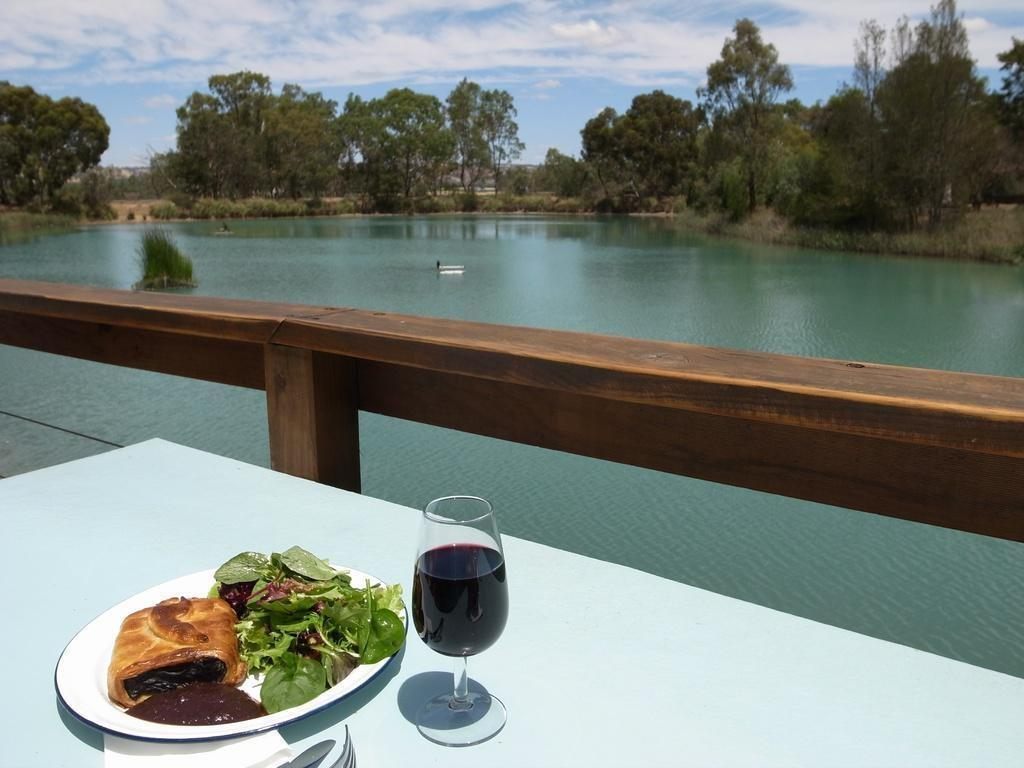glass-wine: (412, 494, 510, 745)
